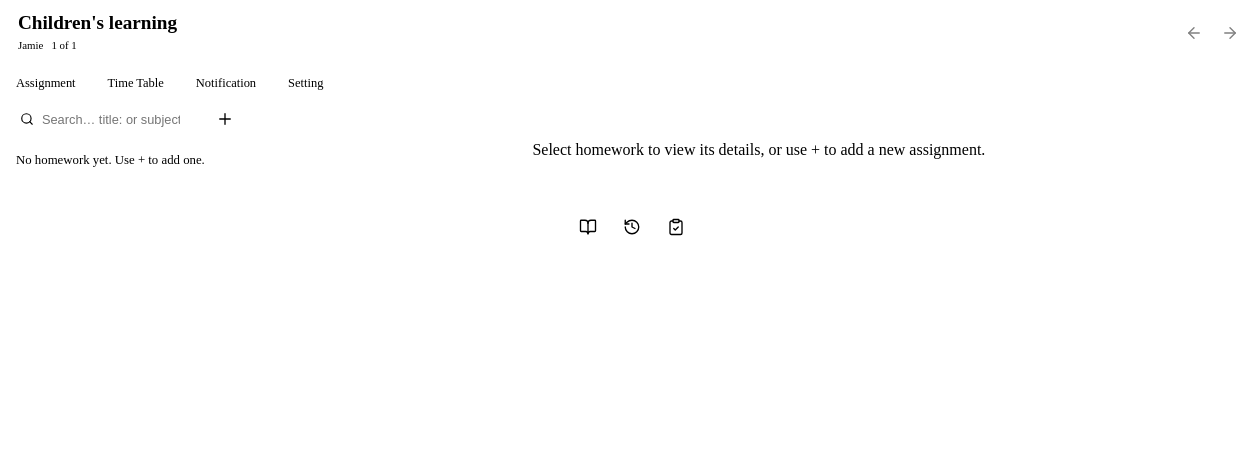
Test: switches the compact Homework bar between uploads, saved history, and attempts
Expected: the text "Jamie" is shown, [18,37,43,53]
Step 1. Click the button named "History" → point(632, 227), box [616,216,648,238]
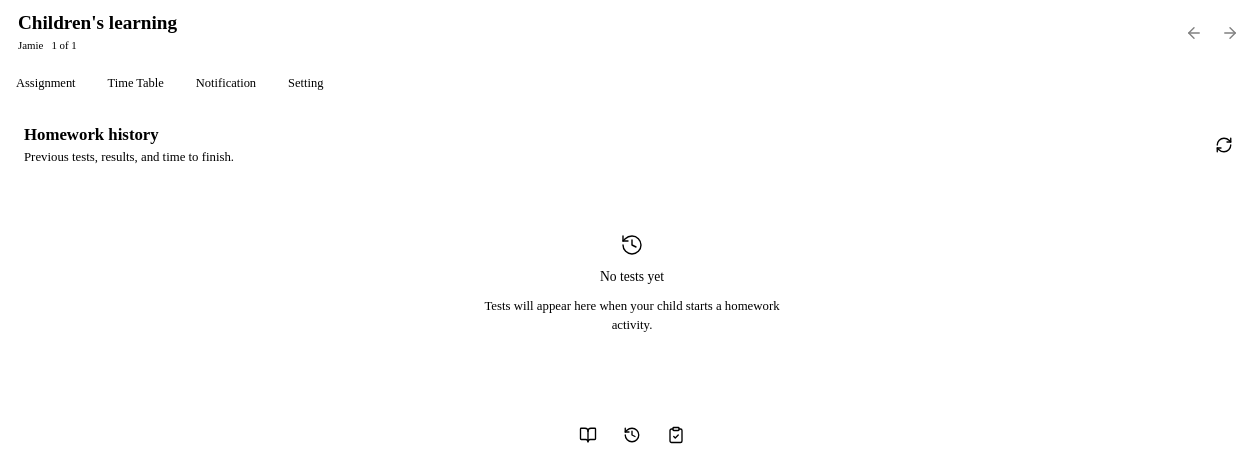
Expected: the heading "Homework history" is shown, [24,125,159,144]
Step 2. Click the button named "Attempts" → point(676, 436), box [660,424,692,446]
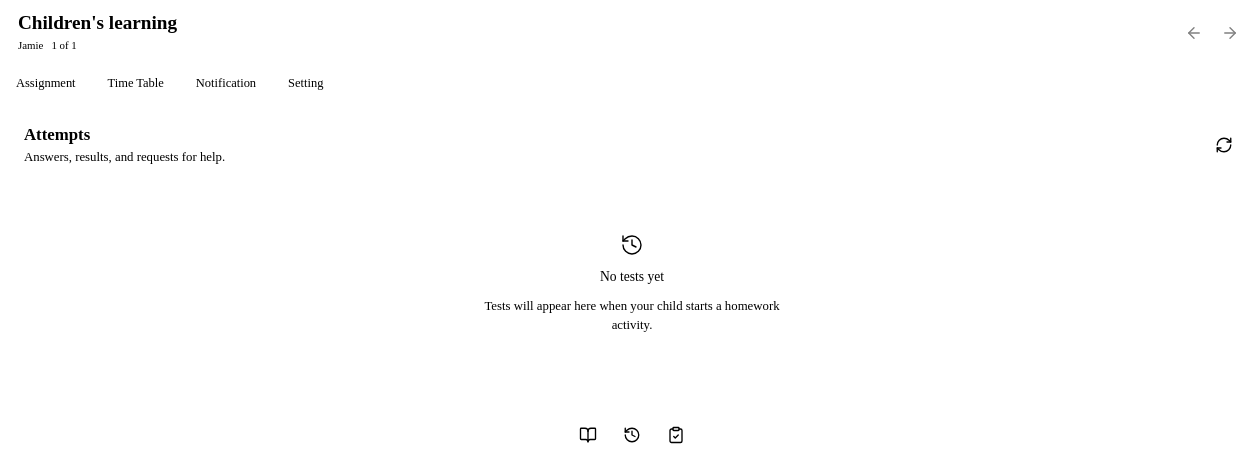
Expected: the element named "Child attempts" is shown, [24,125,1240,384]
Expected: the heading "Homework history" is gone
Step 3. Click the button named "Homework" → point(588, 436), box [572,424,604,446]
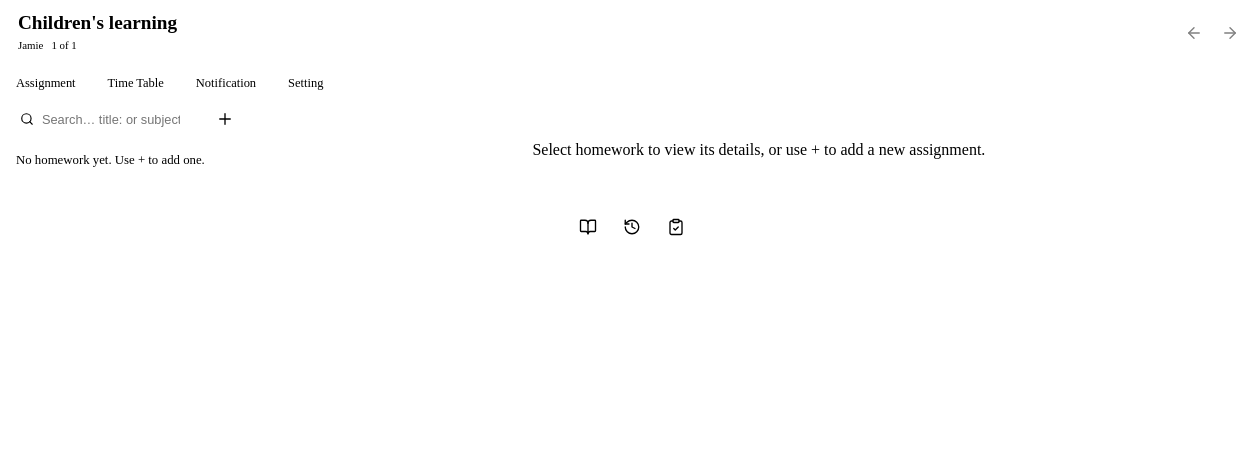
Expected: the search field named "Search homework" is shown, [42,105,193,133]
